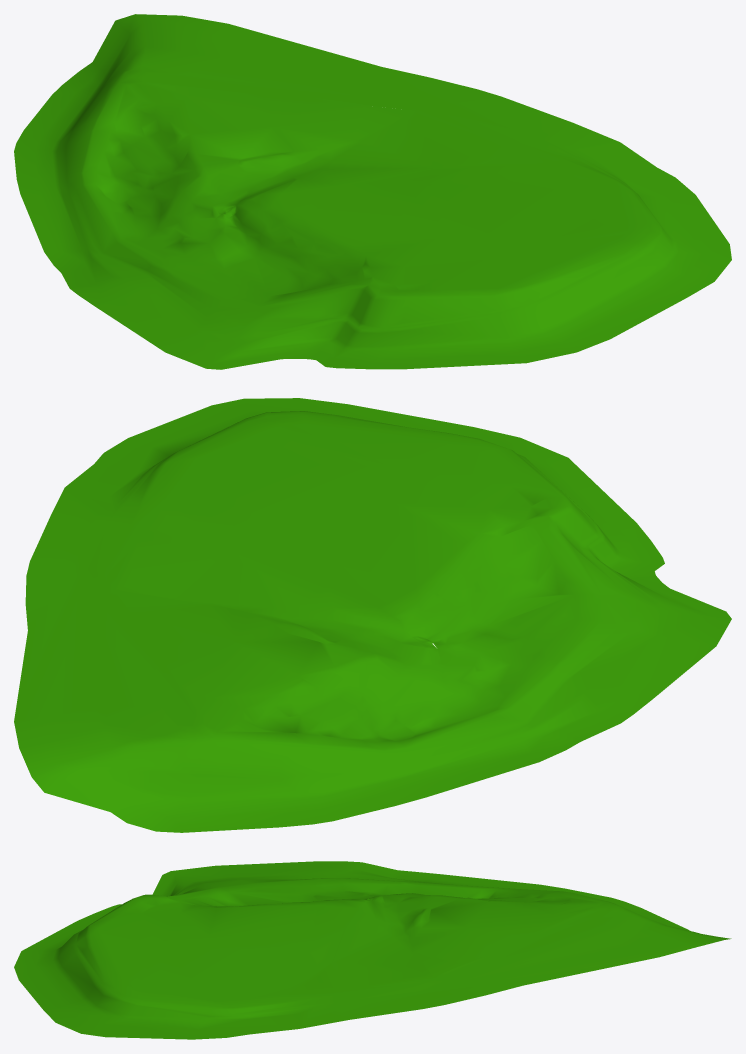
The model's file is terrain_base.glb.
3 renders of one model, top to bottom at view 1: azimuth 30°, elevation 25°; view 2: azimuth 150°, elevation 25°; view 3: azimuth 270°, elevation 25°, orthographic. The views are drawn at different scales.
Visible parts, largest first — view 1: terrain; view 2: terrain; view 3: terrain.
Part boxes in pixels (x1=…): terrain: x1=14, y1=14, x2=731, y2=369; terrain: x1=14, y1=398, x2=731, y2=832; terrain: x1=14, y1=861, x2=731, y2=1039.
Bounding box in the file's own units: 3194 × 329 × 4574.
